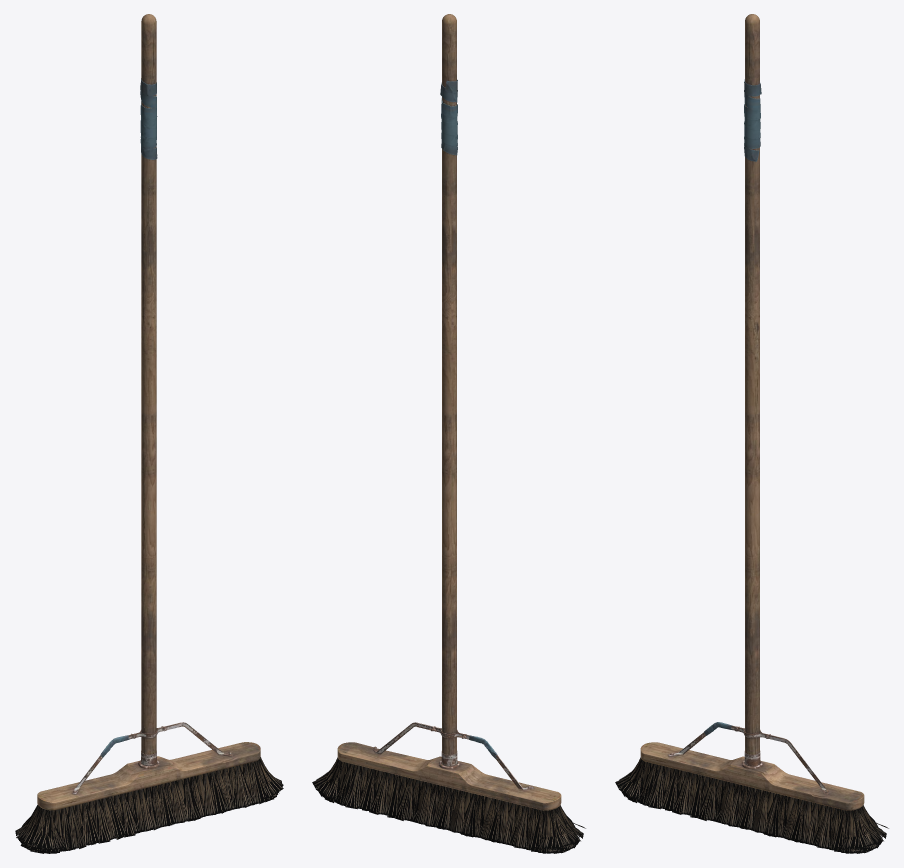
3 renders of one model, left to right at view 1: azimuth 30°, elevation 25°; view 2: azimuth 150°, elevation 25°; view 3: azimuth 330°, elevation 25°, orthographic.
Visible parts, largest first — view 1: wooden_broom_handle, wooden_broom_bristles, wooden_broom; view 2: wooden_broom_handle, wooden_broom_bristles, wooden_broom; view 3: wooden_broom_handle, wooden_broom_bristles, wooden_broom.
Boxes of the visible parts, bbox=[...] form: wooden_broom_handle: bbox=[140, 14, 157, 765]; wooden_broom_bristles: bbox=[15, 757, 283, 853]; wooden_broom: bbox=[37, 722, 260, 817]; wooden_broom_handle: bbox=[440, 14, 457, 766]; wooden_broom_bristles: bbox=[312, 757, 585, 853]; wooden_broom: bbox=[337, 722, 565, 826]; wooden_broom_handle: bbox=[744, 14, 761, 766]; wooden_broom_bristles: bbox=[615, 757, 888, 853]; wooden_broom: bbox=[640, 722, 864, 826].
Size of the model in its own units: 0.4902 by 1.45 by 0.1125.
2 materials, 2 textured.
